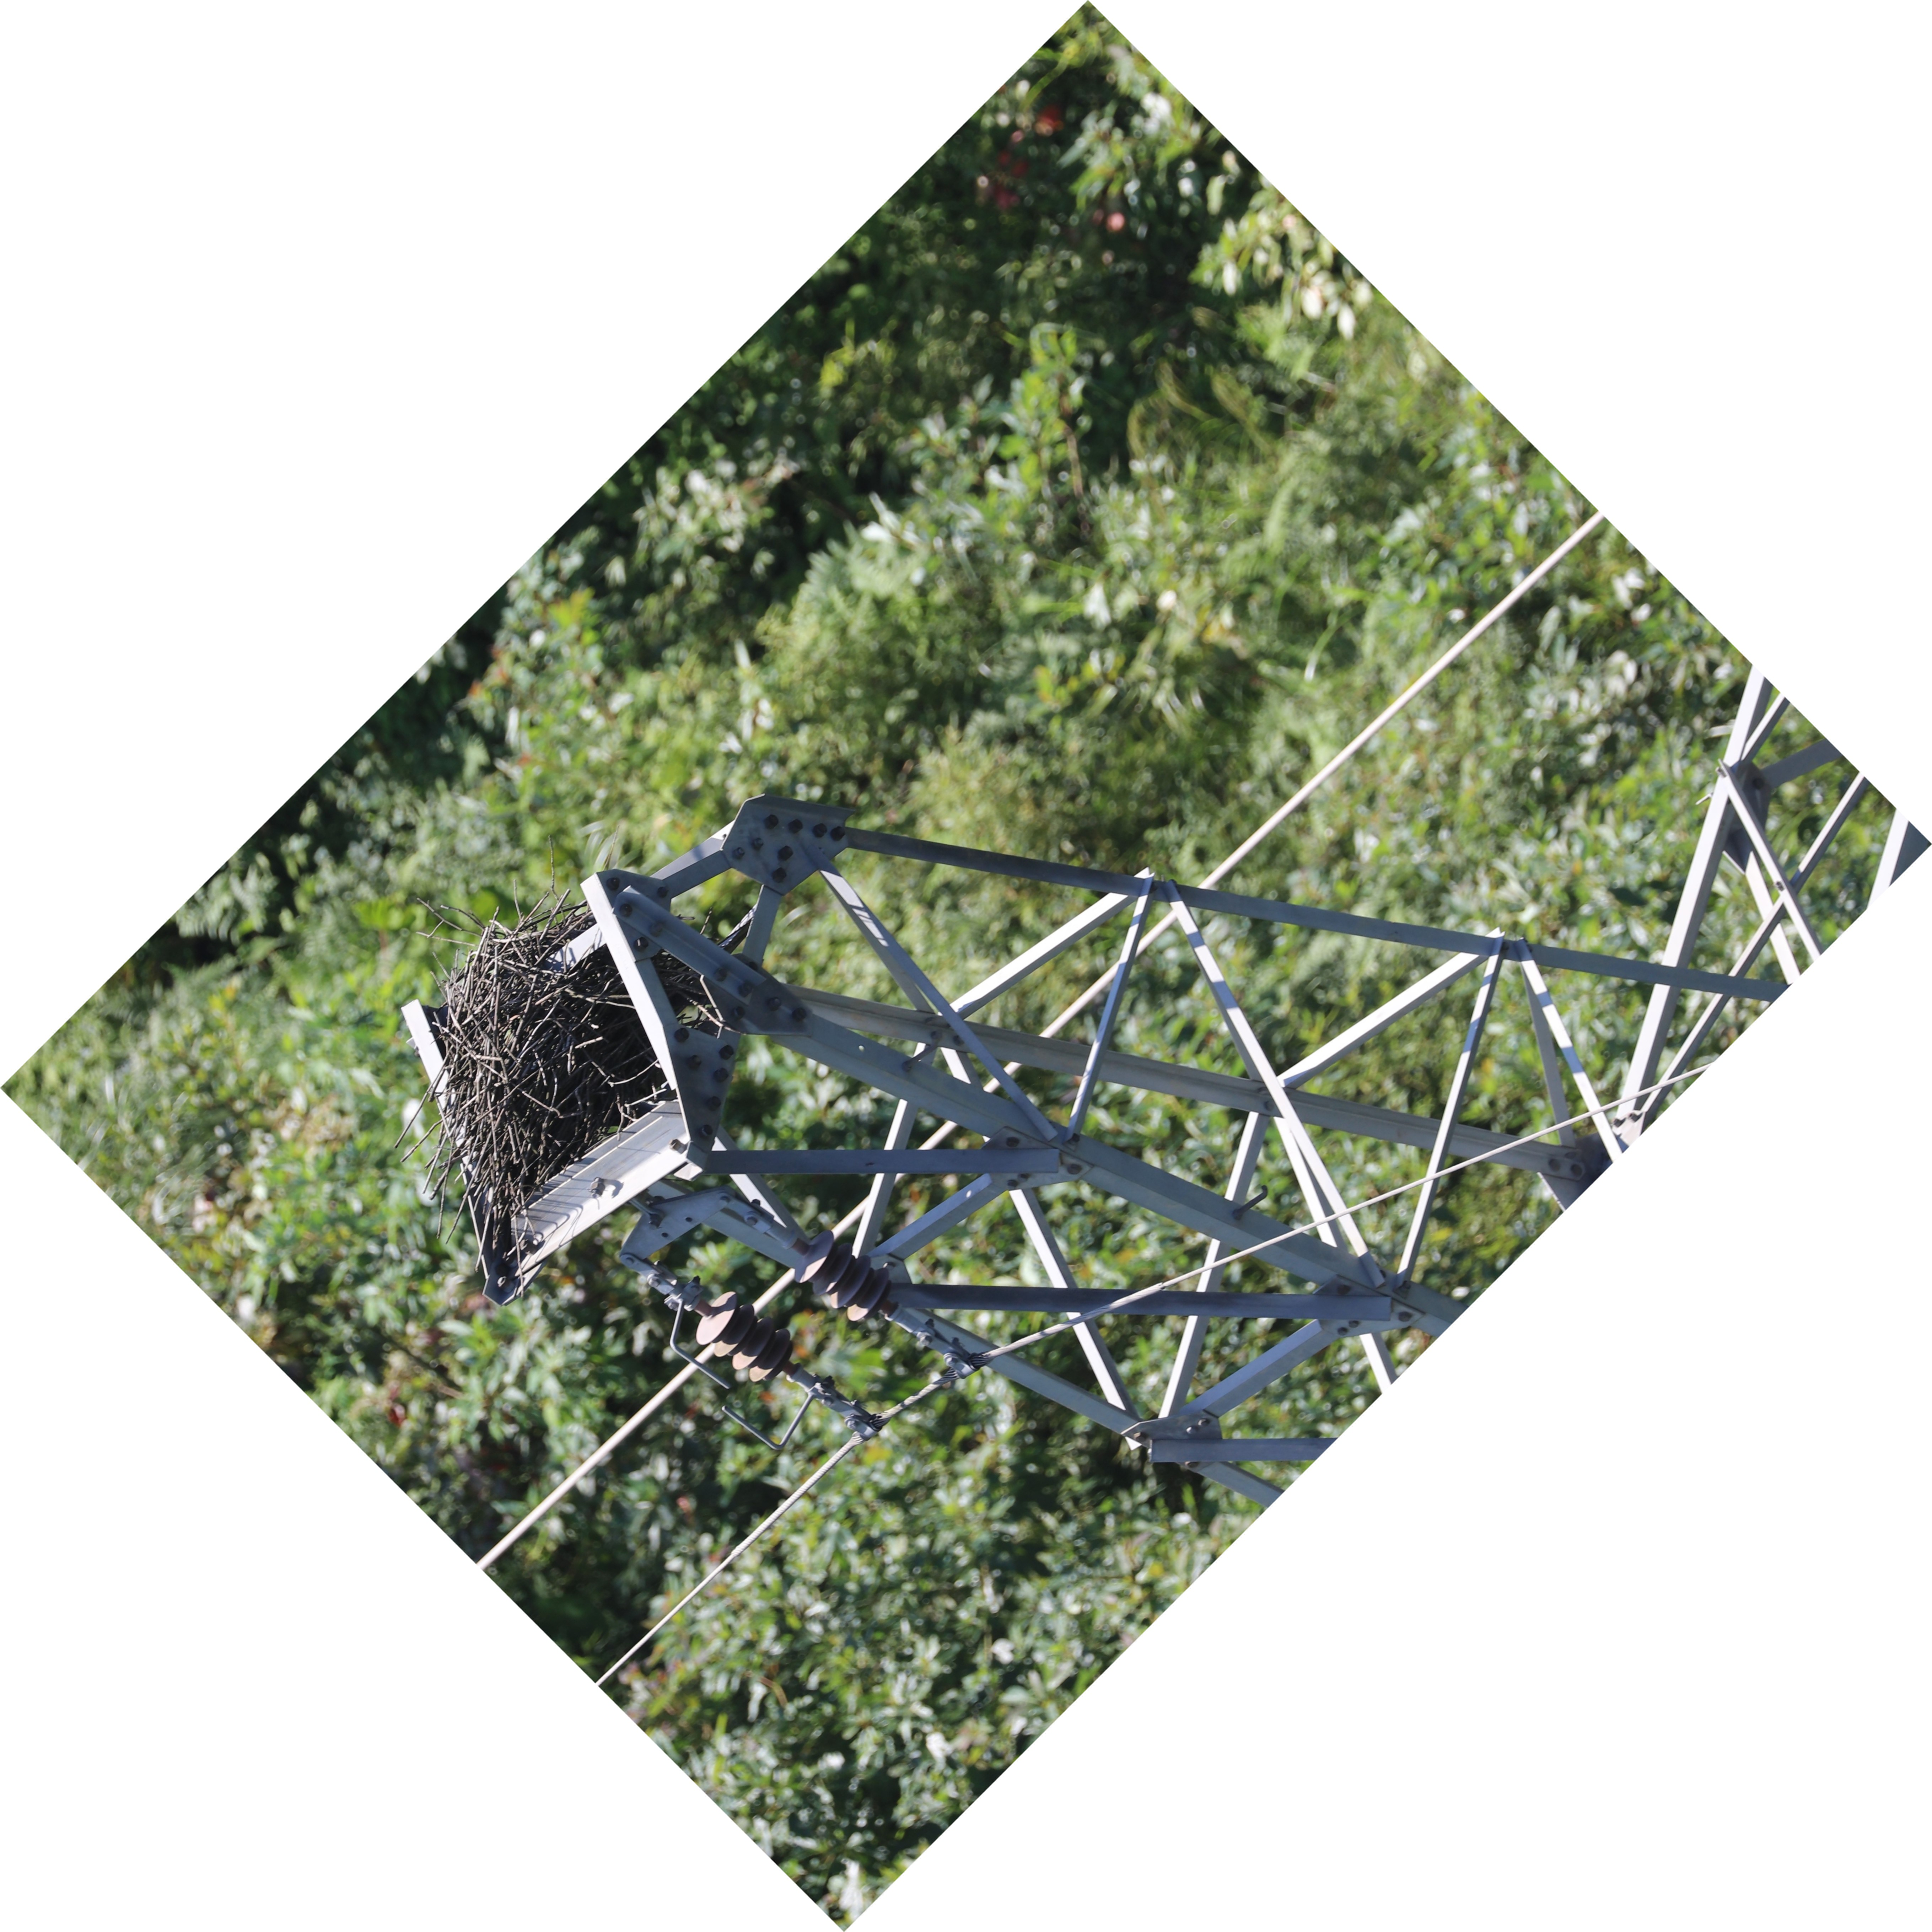niaowo: (386, 860, 729, 1254)
